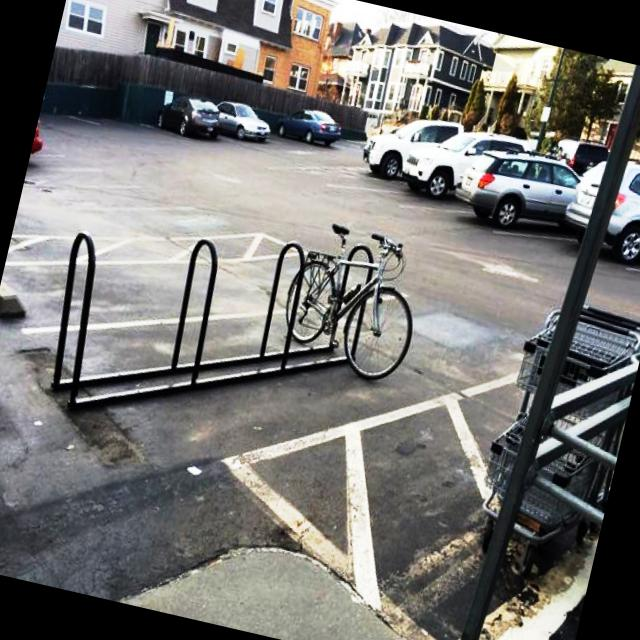bike: (270, 216, 432, 387)
